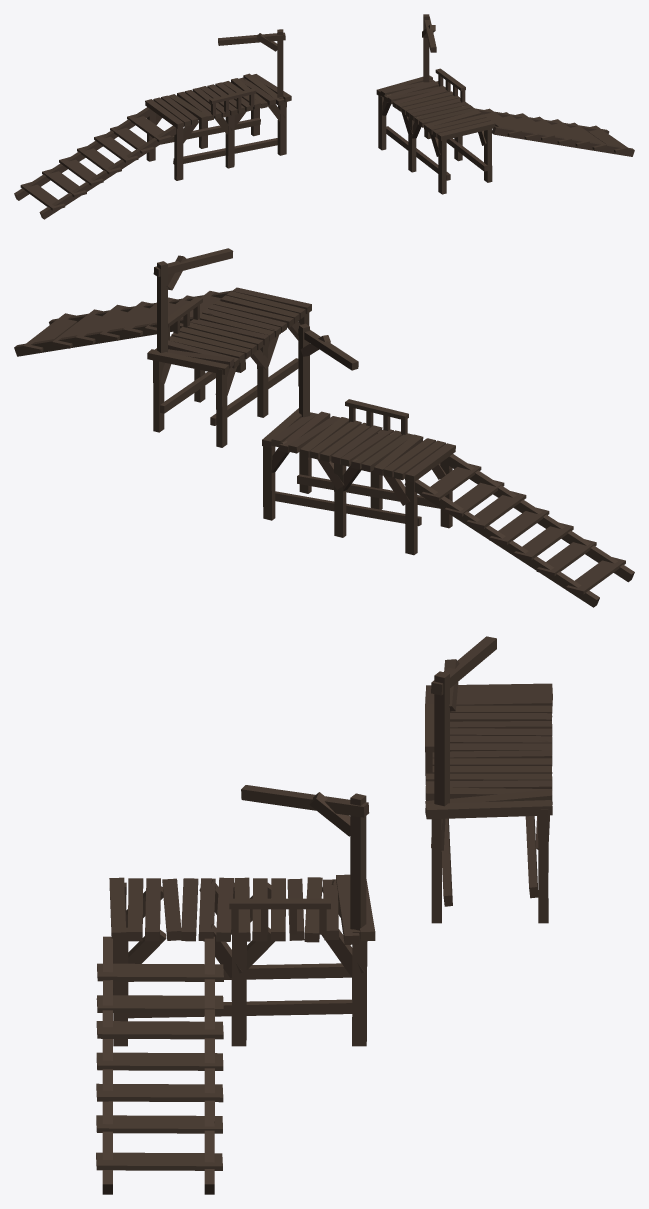
Rendered from hang.fbx.
The picture shows the model from 3 angles, top to bottom: view 1: azimuth 30°, elevation 25°; view 2: azimuth 150°, elevation 25°; view 3: azimuth 270°, elevation 25°; orthographic projection. The views are drawn at different scales.
Visible parts, largest first — view 1: Cube.147, Cube.133, Cube.149, Cube.169, Cube.242, Cube.160, Cube.196, Cube.003, Cube.407, Cube.002, Cube.004; view 2: Cube.147, Cube.149, Cube.133, Cube.169, Cube.160, Cube.242, Cube.004, Cube.196, Cube.002, Cube.005, Cube.003, Cube.407; view 3: Cube.242, Cube.149, Cube.133, Cube.160, Cube.169, Cube.004, Cube.002, Cube.407, Cube.005, Cube.147, Cube.003.
Part boxes in pixels (x1,y1,x2,y2): Cube.147: (14,107,176,219); Cube.133: (376,75,495,140); Cube.149: (145,73,291,128); Cube.169: (146,77,286,180); Cube.242: (475,108,634,156); Cube.160: (378,79,492,194); Cube.196: (209,88,256,116); Cube.003: (218,32,285,45); Cube.407: (435,68,465,102); Cube.002: (277,29,283,97); Cube.004: (423,14,429,82); Cube.147: (404,454,634,607); Cube.149: (262,408,455,482); Cube.133: (147,287,311,374); Cube.169: (263,413,452,555); Cube.160: (153,313,309,447); Cube.242: (14,290,231,356); Cube.004: (157,261,167,352); Cube.196: (345,399,408,435); Cube.002: (299,323,309,417); Cube.005: (153,248,233,276); Cube.003: (298,328,358,370); Cube.407: (168,296,202,340); Cube.242: (96,936,223,1194); Cube.149: (425,697,552,819); Cube.133: (109,874,375,944); Cube.160: (113,879,367,1046); Cube.169: (431,740,549,923); Cube.004: (350,793,366,930); Cube.002: (434,671,449,806); Cube.407: (229,898,330,934); Cube.005: (241,785,369,817); Cube.147: (425,683,552,716); Cube.003: (431,636,496,695).
Bounding box in the file's own units: 6596 × 1600 × 2558.
